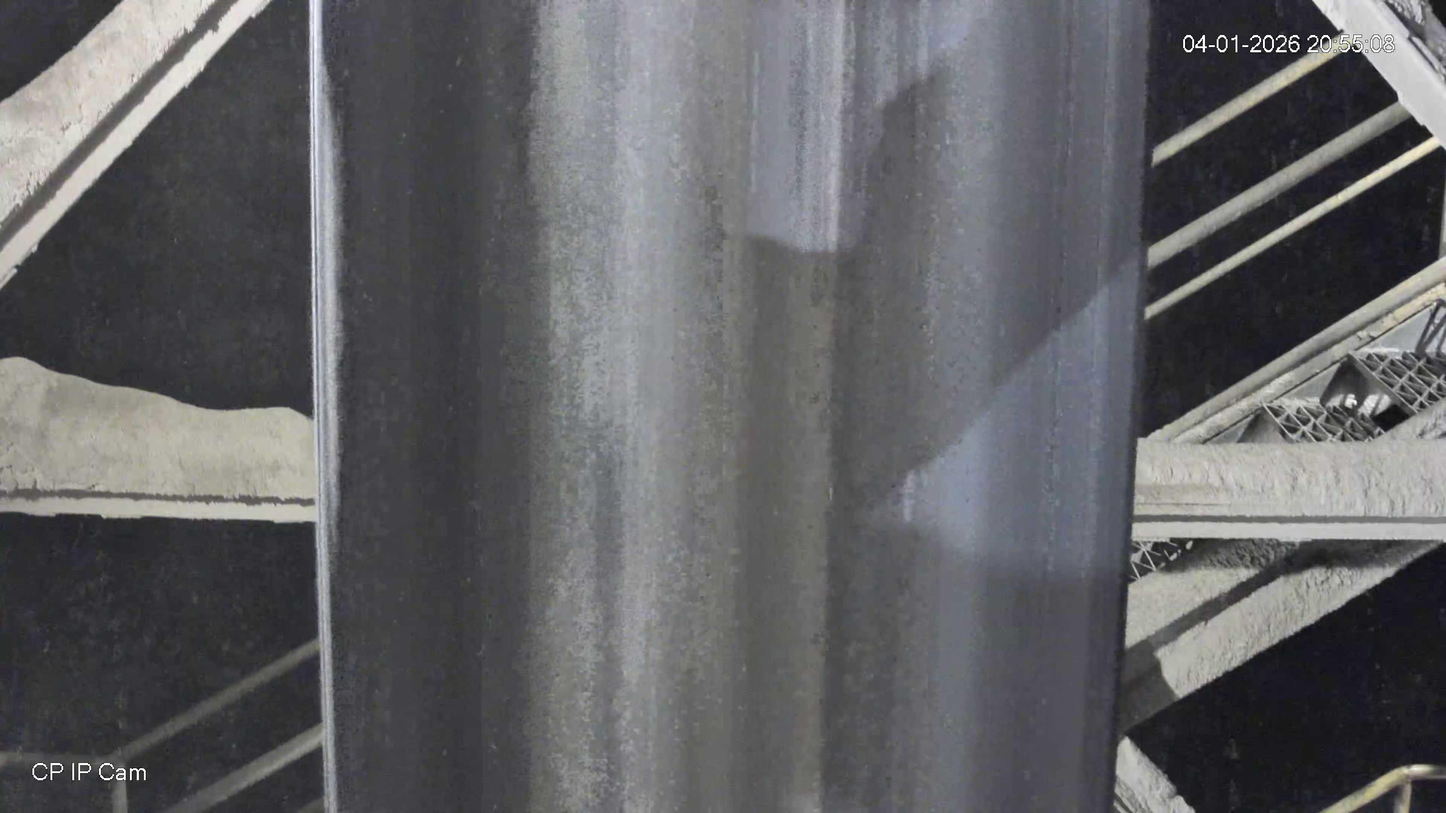belt_roi: (308, 0, 1158, 813)
